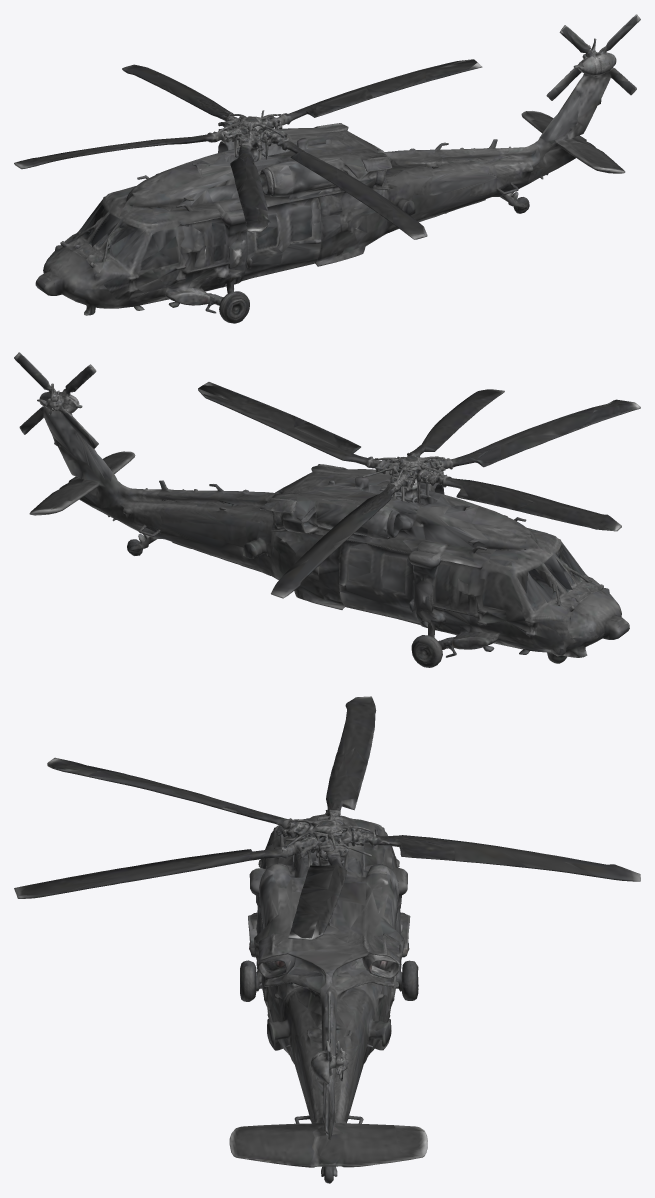
The model's file is helicopter.glb.
3 renders of one model, top to bottom at view 1: azimuth 30°, elevation 25°; view 2: azimuth 150°, elevation 25°; view 3: azimuth 270°, elevation 25°, orthographic. The views are drawn at different scales.
Parts seen in each view (by area): view 1: Mesh_0; view 2: Mesh_0; view 3: Mesh_0.
Part boxes in pixels (<box>): Mesh_0: <box>14,14,640,323</box>; Mesh_0: <box>14,352,640,667</box>; Mesh_0: <box>14,696,640,1183</box>.
Bounding box in the file's own units: 1.9 × 0.5493 × 1.38.
1 material, 1 textured.
